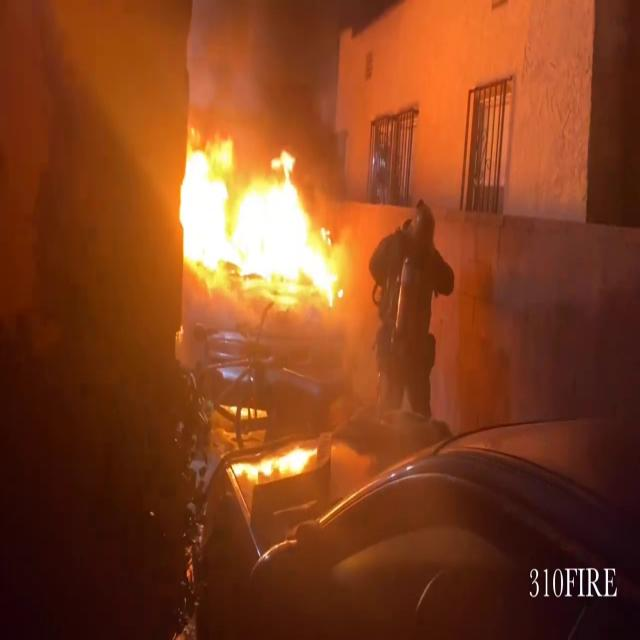Fire: (170, 132, 352, 306)
